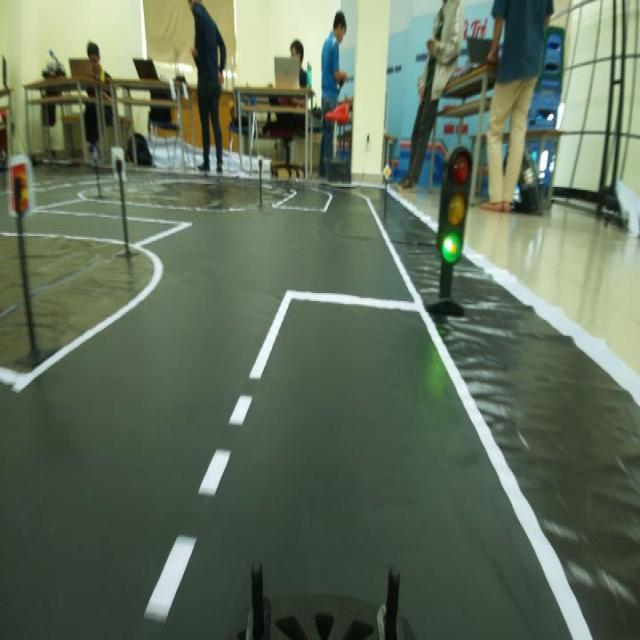trafficlight: (432, 140, 477, 272)
